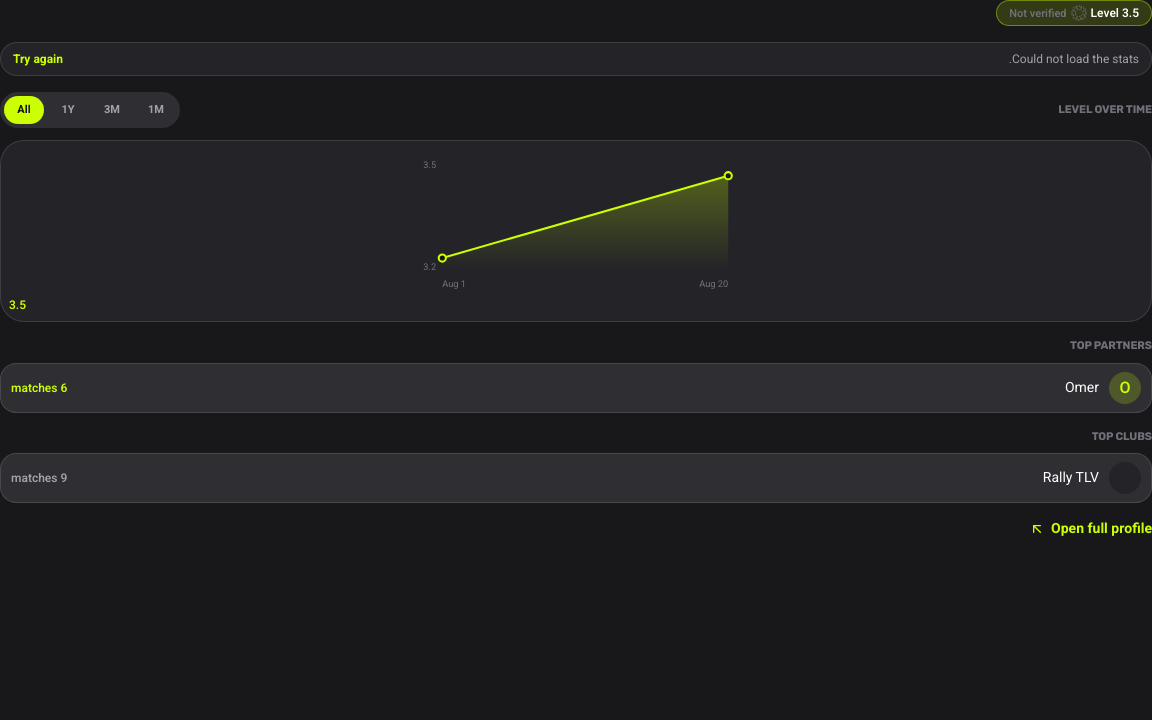
Scenario: PlayerStatsTab › shows the error line with retry when the public stats fail
Expected: the text "Could not load the stats. Try again" is shown, [0, 42, 1151, 76]
Click the button "Try again": (38, 59) [13, 51, 63, 67]
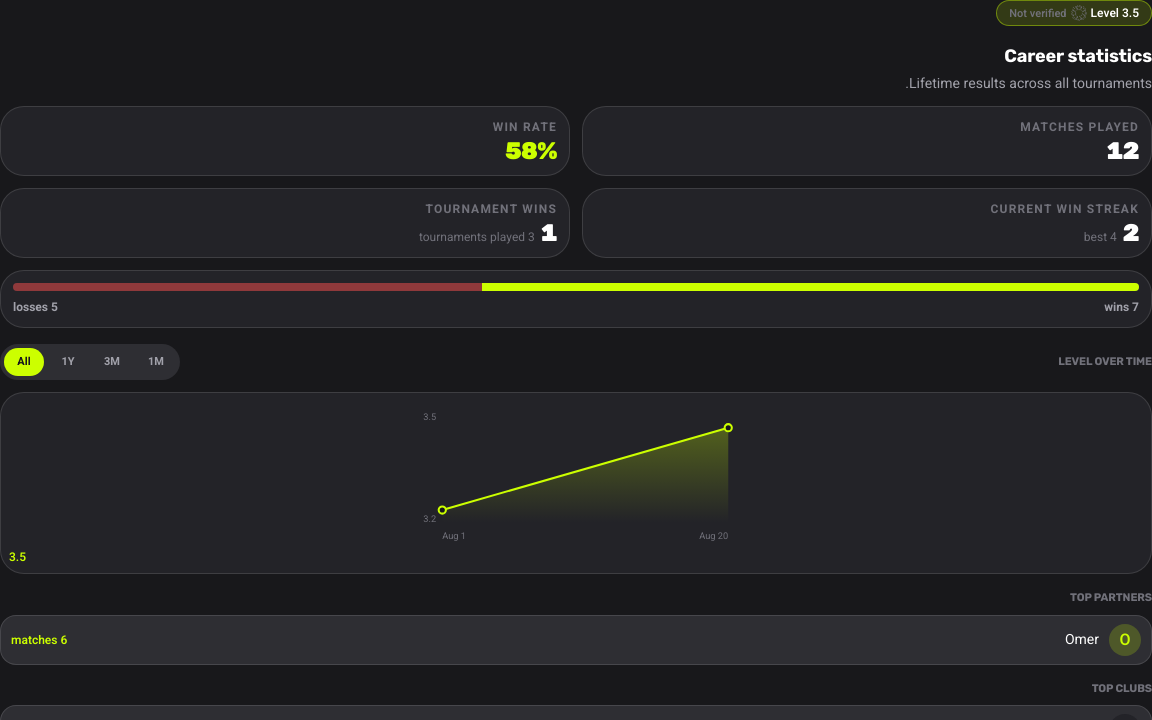
Expected: the element with test id "player-season-stats" is shown, [0, 42, 1151, 328]
